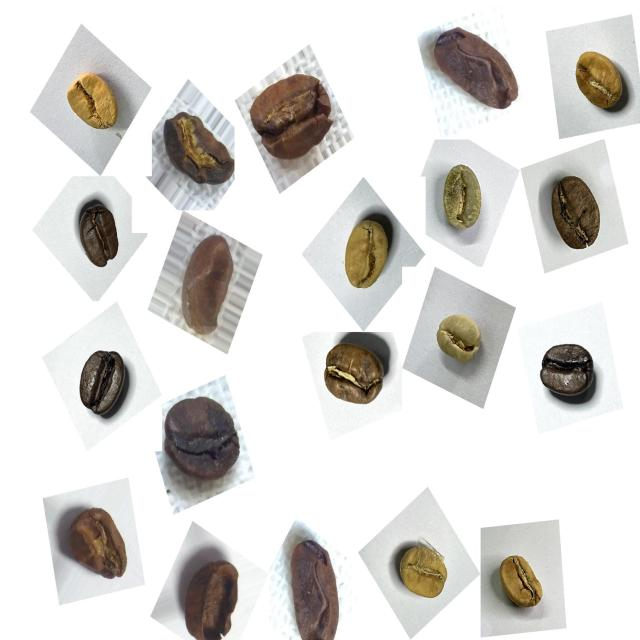bad: (241, 59, 340, 175), (432, 17, 526, 123), (172, 228, 245, 348), (278, 531, 353, 637), (162, 101, 240, 197), (162, 395, 240, 484), (180, 552, 251, 636), (63, 500, 129, 588)
dark: (64, 335, 138, 426), (531, 326, 605, 414), (65, 185, 128, 279)
green: (424, 300, 496, 383), (435, 153, 497, 246)
light: (329, 204, 401, 304), (566, 36, 638, 123), (52, 55, 125, 140), (386, 528, 459, 613), (487, 535, 558, 622)
medium: (313, 331, 396, 420), (539, 169, 614, 262)
